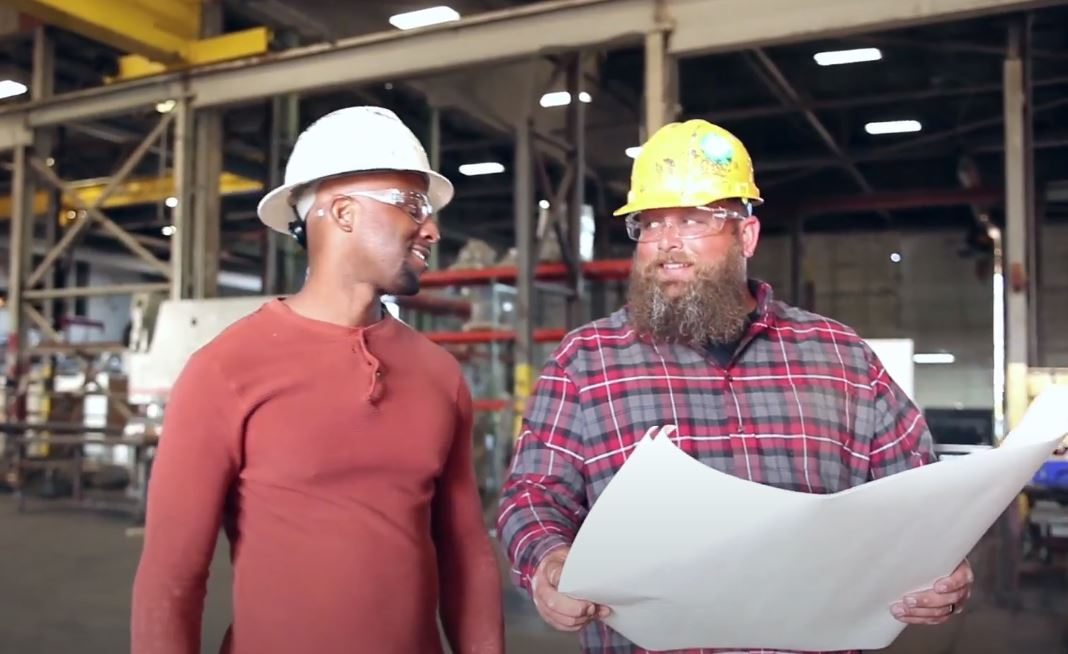Safety Helmet: (241, 86, 477, 348), (597, 102, 793, 374)
